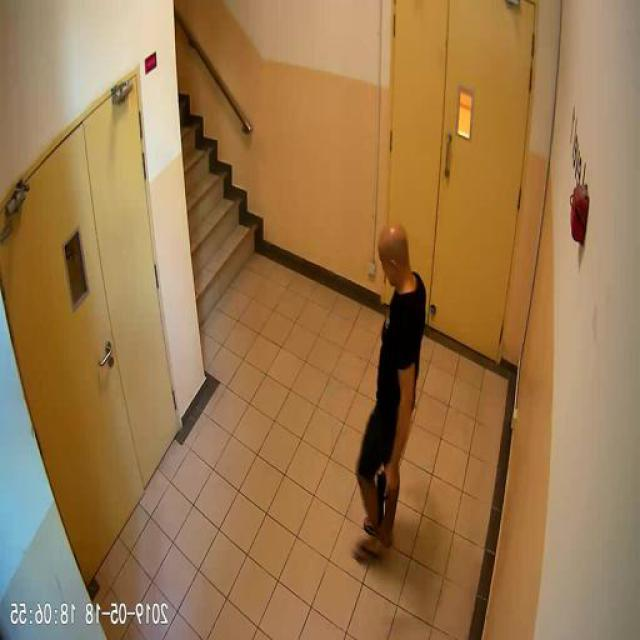Gun: (378, 468, 402, 526)
